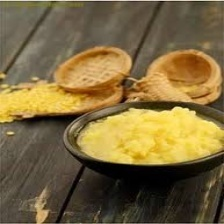dal: (75, 107, 224, 167)
